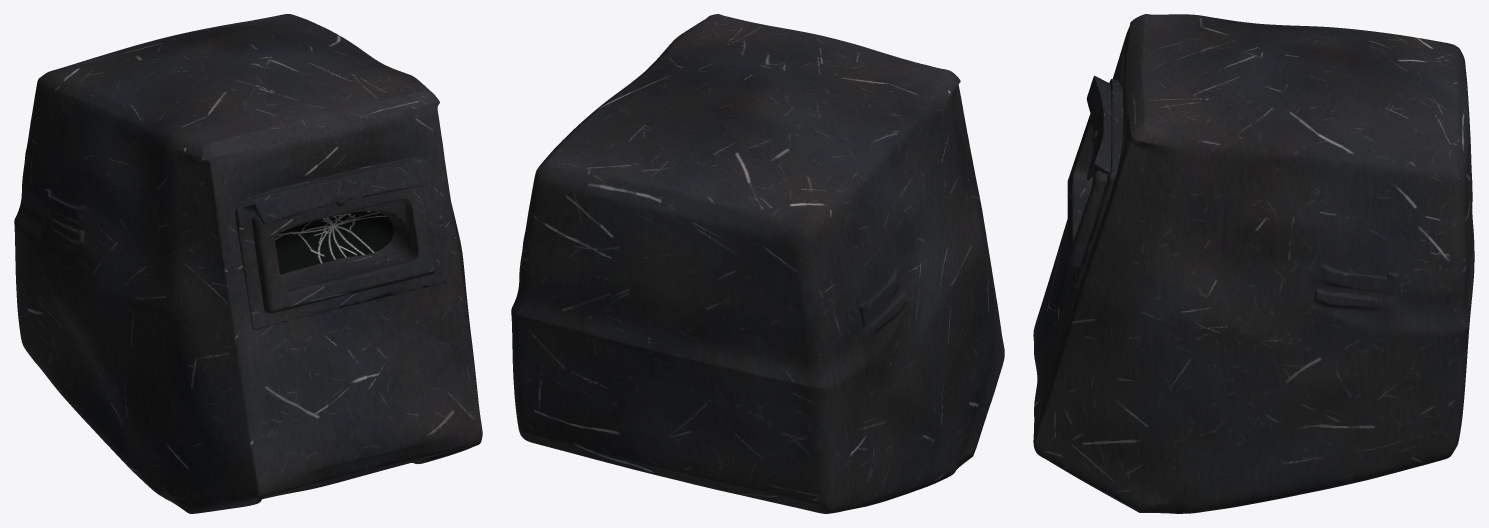
File: helmet-steel.glb
3 views of the same model, side by side, from view 1: azimuth 30°, elevation 25°; view 2: azimuth 150°, elevation 25°; view 3: azimuth 270°, elevation 25° (orthographic). The views are drawn at different scales.
Parts seen in each view (by area): view 1: tripo_node_6ae29c33-f32d-4aad-8f05-d06755014045; view 2: tripo_node_6ae29c33-f32d-4aad-8f05-d06755014045; view 3: tripo_node_6ae29c33-f32d-4aad-8f05-d06755014045.
Part boxes in pixels (box(x1,y1,x2,y2)): tripo_node_6ae29c33-f32d-4aad-8f05-d06755014045: box(14, 14, 482, 513); tripo_node_6ae29c33-f32d-4aad-8f05-d06755014045: box(511, 14, 1004, 513); tripo_node_6ae29c33-f32d-4aad-8f05-d06755014045: box(1033, 14, 1474, 513).
Bounding box in the file's own units: 0.8203 × 0.9798 × 0.9661.
1 material, 1 textured.
